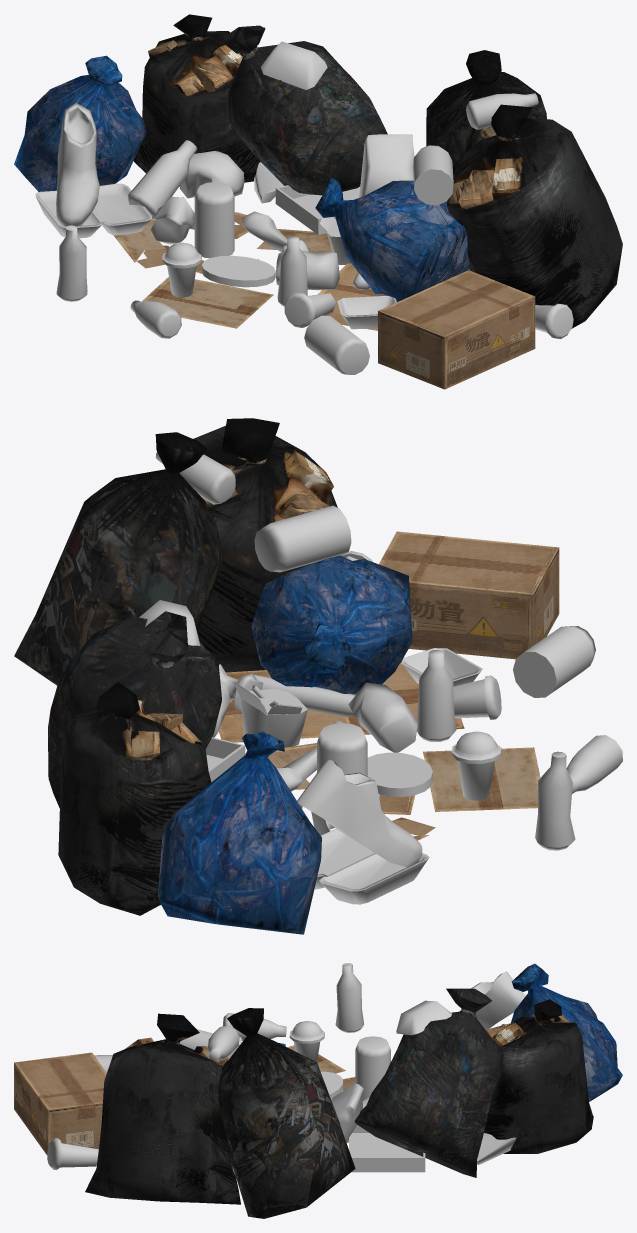
The model's file is CP_Garbage_03.fbx.
The picture shows the model from 3 angles, top to bottom: view 1: azimuth 30°, elevation 25°; view 2: azimuth 150°, elevation 25°; view 3: azimuth 270°, elevation 25°; orthographic projection. The views are drawn at different scales.
Parts seen in each view (by area): view 1: CP_Garbage_03_LOD0; view 2: CP_Garbage_03_LOD0; view 3: CP_Garbage_03_LOD0.
Part boxes in pixels (x1,y1,x2,y2): CP_Garbage_03_LOD0: [14, 14, 622, 389]; CP_Garbage_03_LOD0: [14, 418, 622, 934]; CP_Garbage_03_LOD0: [14, 963, 622, 1218].
Size of what is drawn, in the model's own units: 173 by 76.64 by 218.
